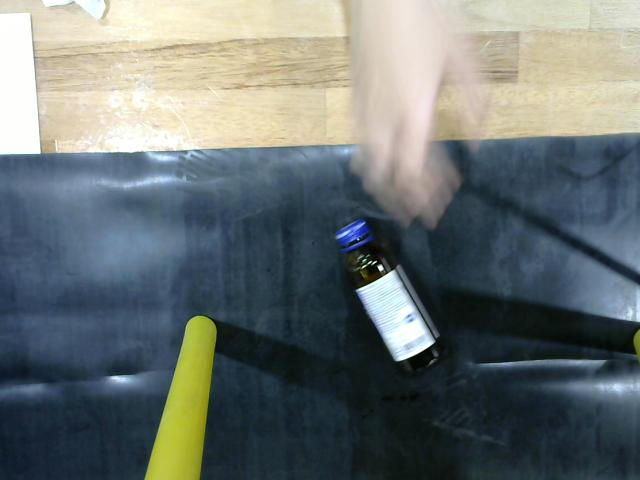glass: (328, 213, 451, 381)
